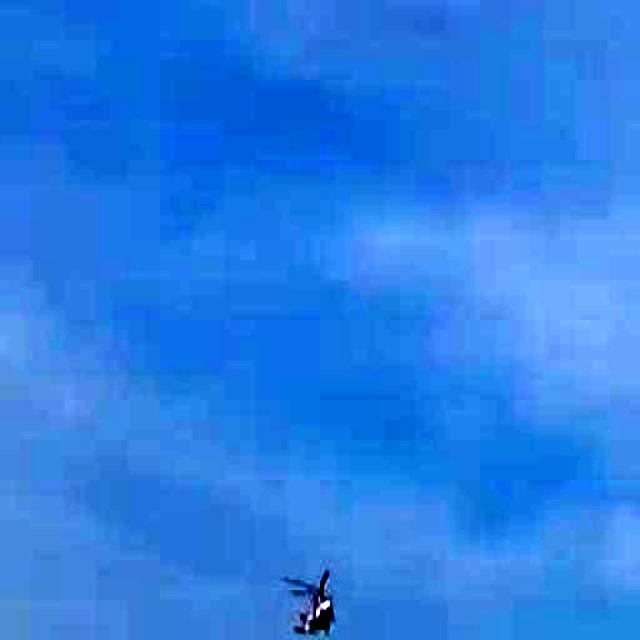drone: (272, 562, 359, 640)
